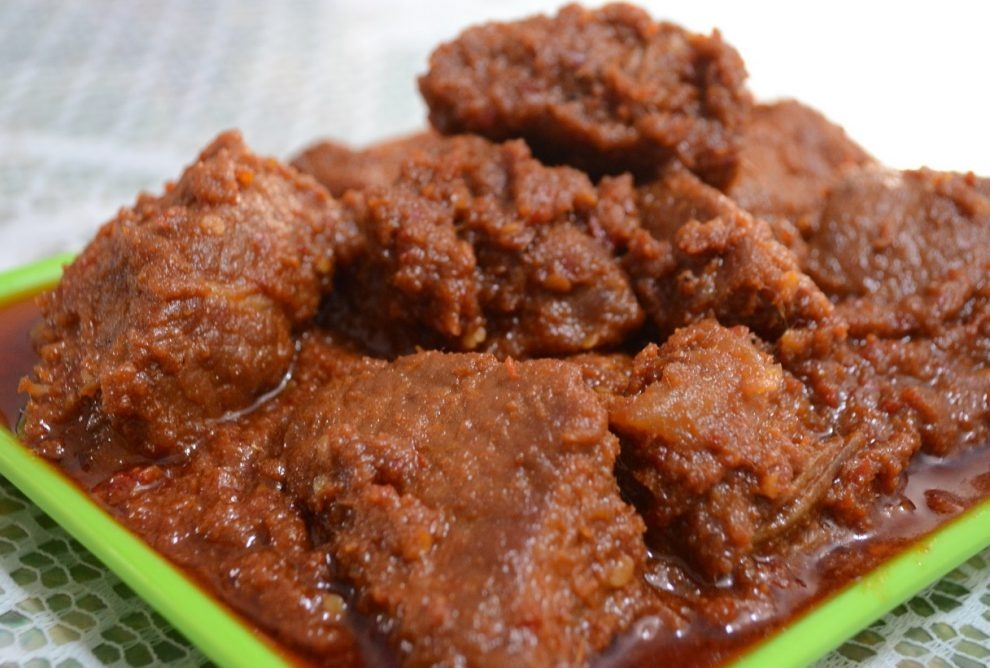rendang: (42, 106, 986, 651)
